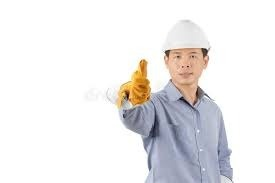helmet: (159, 17, 213, 53)
person with partial safety: (120, 17, 235, 182)
